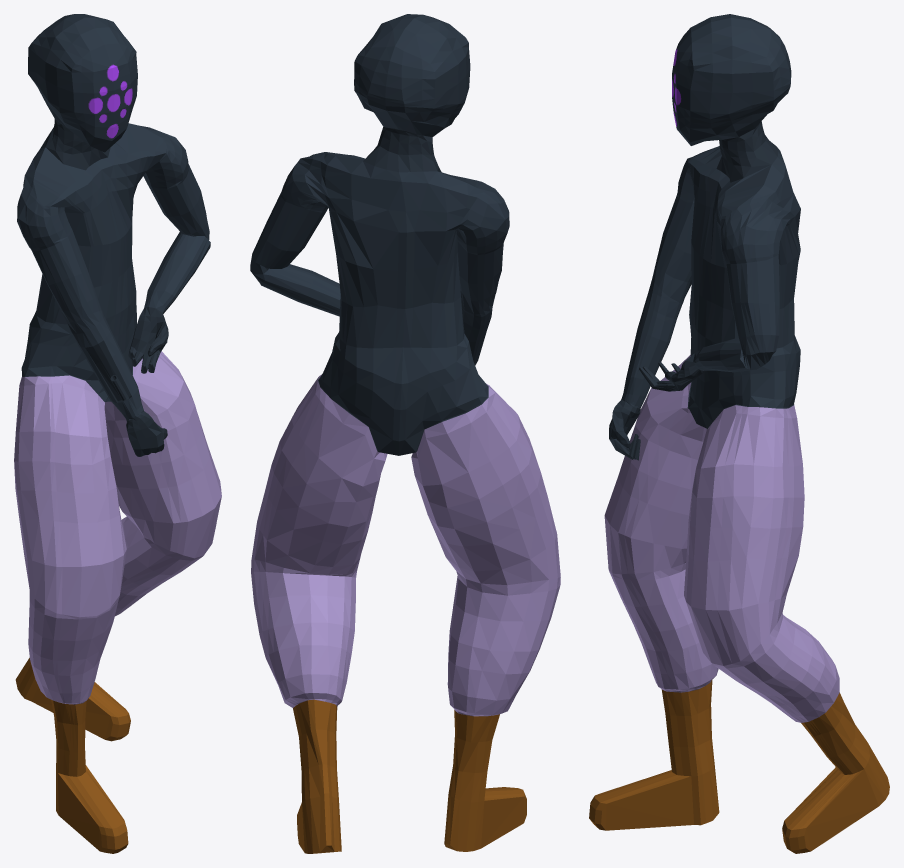
The model's file is Oracle_WB_000006.obj.
3 renders of one model, left to right at view 1: azimuth 30°, elevation 25°; view 2: azimuth 150°, elevation 25°; view 3: azimuth 270°, elevation 25°, orthographic. The views are drawn at different scales.
Parts seen in each view (by area): view 1: Cube; view 2: Cube; view 3: Cube.
Boxes of the visible parts, x1,y1,x2,y2 form: Cube: (14,14,221,853); Cube: (250,14,560,853); Cube: (589,14,889,853).
Size of the model in its own units: 1.19 by 3.86 by 1.28.
